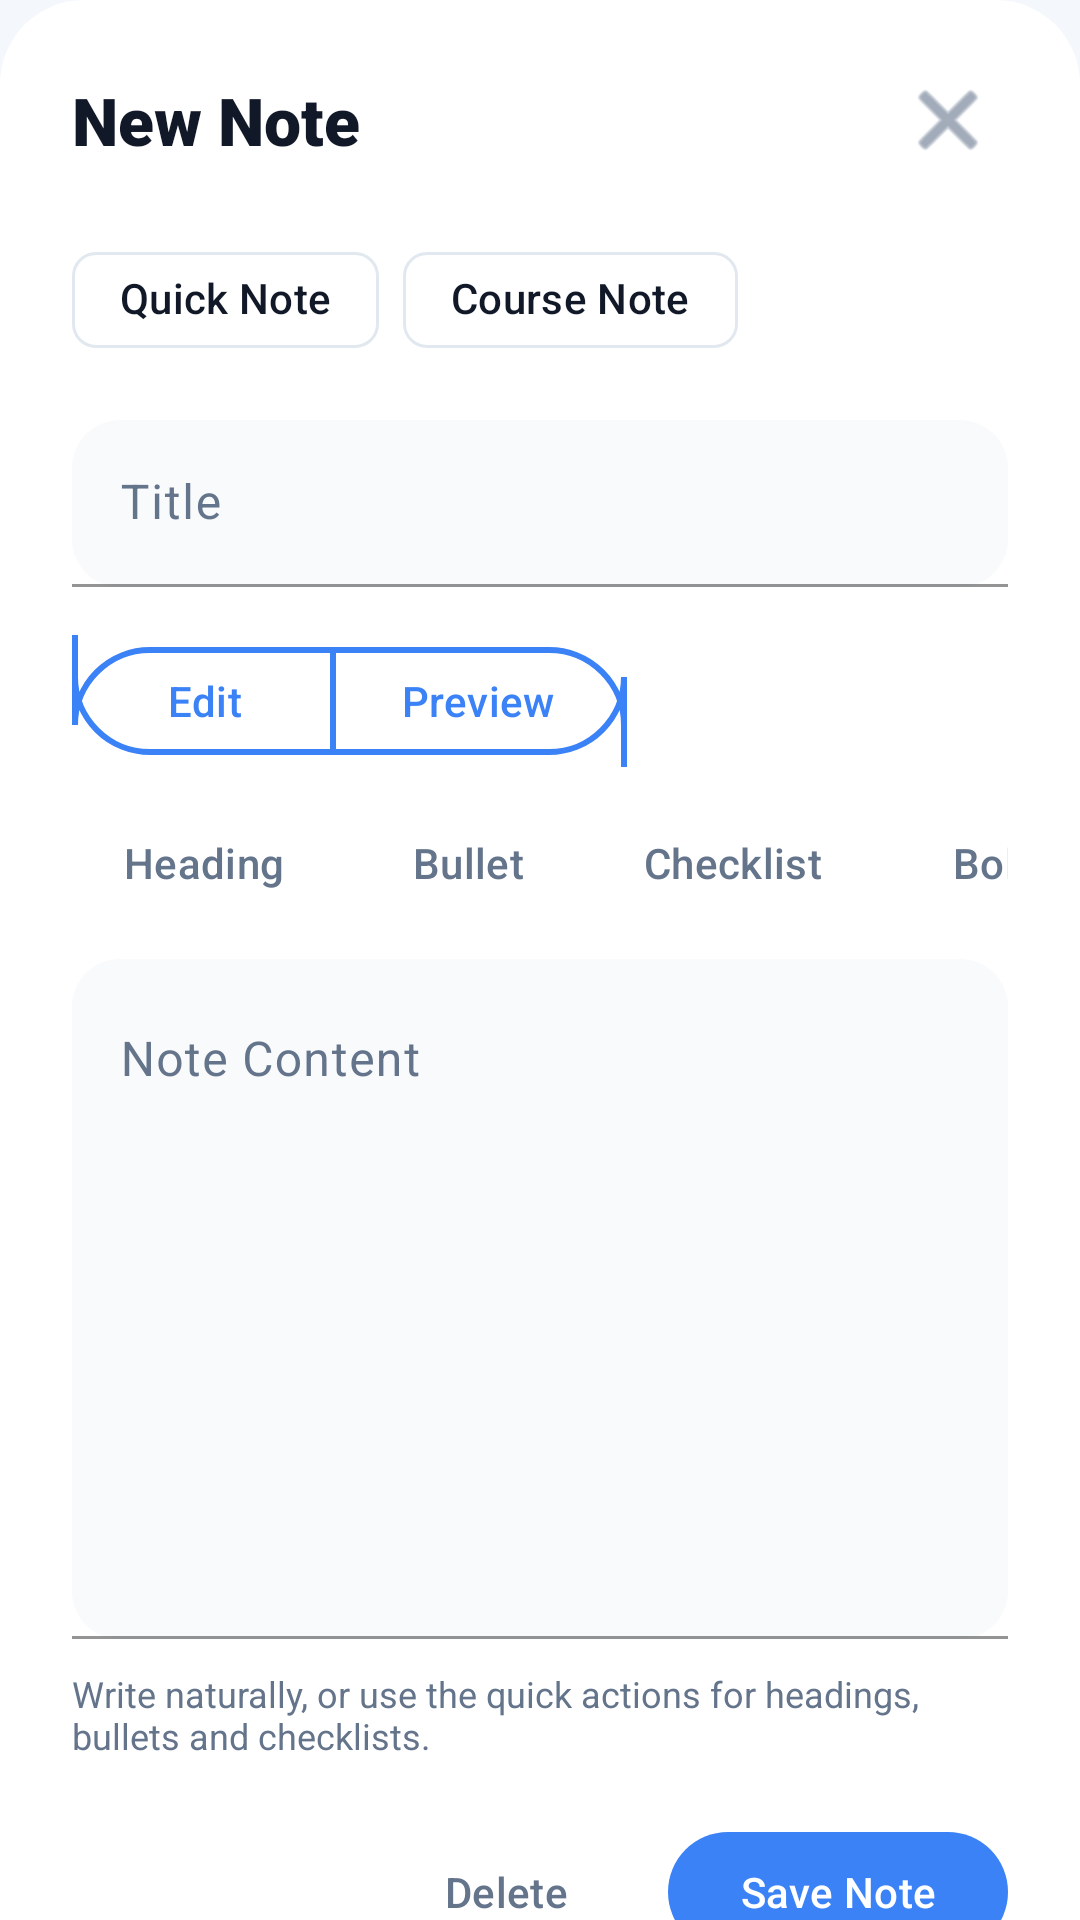

Point at icon controls on the screen. Image size 1080px×1920px, points as point (x, y).
Close note editor: point (948, 120)
